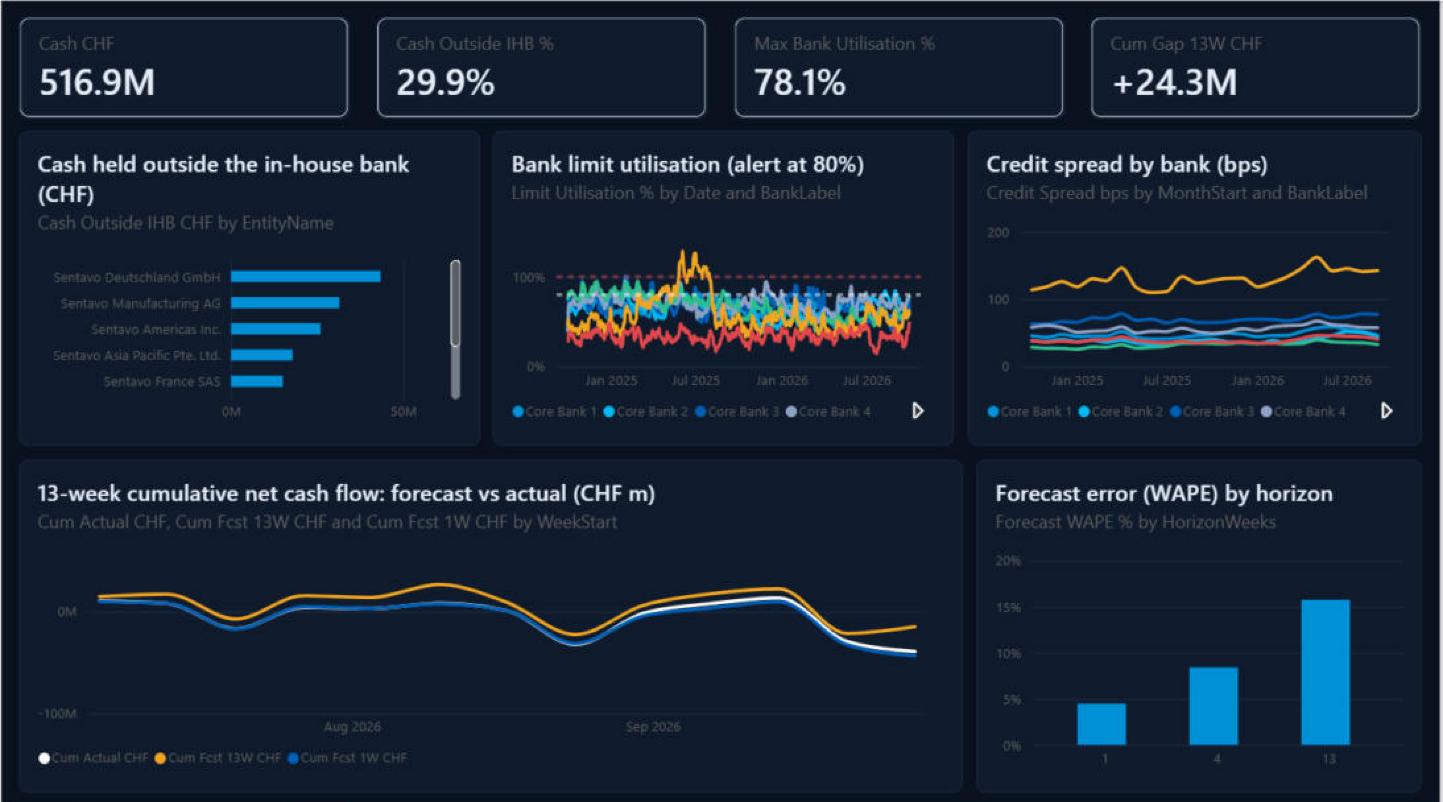

The dashboard page shown, as its layout file describes it:
{"tool":"powerbi","page":{"name":"Treasury Control Tower","canvas":[1280,720],"ordinal":0},"visuals":[{"type":"cardVisual","fields":{"Data":["_Measures.Cash CHF"]},"box":[16,14,294,90],"z":0},{"type":"cardVisual","fields":{"Data":["_Measures.Cash Outside IHB %"]},"box":[334,14,294,90],"z":1},{"type":"cardVisual","fields":{"Data":["_Measures.Max Bank Utilisation %"]},"box":[652,14,294,90],"z":2},{"type":"cardVisual","fields":{"Data":["_Measures.Cum Gap 13W CHF"]},"box":[970,14,294,90],"z":3},{"type":"clusteredBarChart","title":"Cash held outside the in-house bank (CHF)","fields":{"Category":["DimEntity.EntityName"],"Y":["_Measures.Cash Outside IHB CHF"]},"box":[16,116,410,280],"z":4},{"type":"lineChart","title":"Bank limit utilisation (alert at 80%)","fields":{"Category":["Date.Date"],"Series":["DimBank.BankLabel"],"Y":["_Measures.Limit Utilisation %"]},"box":[438,116,410,280],"z":5},{"type":"lineChart","title":"Credit spread by bank (bps)","fields":{"Category":["Date.MonthStart"],"Series":["DimBank.BankLabel"],"Y":["_Measures.Credit Spread bps"]},"box":[860,116,404,280],"z":6},{"type":"lineChart","title":"13-week cumulative net cash flow: forecast vs actual (CHF m)","fields":{"Category":["Date.WeekStart"],"Y":["_Measures.Cum Actual CHF","_Measures.Cum Fcst 13W CHF","_Measures.Cum Fcst 1W CHF"]},"box":[16,408,840,296],"z":7},{"type":"clusteredColumnChart","title":"Forecast error (WAPE) by horizon","fields":{"Category":["FactCashForecast.HorizonWeeks"],"Y":["_Measures.Forecast WAPE %"]},"box":[868,408,396,296],"z":8}]}

Visuals, with their boxes in screenshot pixels (x1, y1, x2, y2), scaled from the page's 1280x720 canvas onto the 1443x802 screenshot:
cardVisual - _Measures.Cash CHF: l=18, t=16, r=349, b=116
cardVisual - _Measures.Cash Outside IHB %: l=377, t=16, r=708, b=116
cardVisual - _Measures.Max Bank Utilisation %: l=735, t=16, r=1066, b=116
cardVisual - _Measures.Cum Gap 13W CHF: l=1094, t=16, r=1425, b=116
"Cash held outside the in-house bank (CHF)" clusteredBarChart: l=18, t=129, r=480, b=441
"Bank limit utilisation (alert at 80%)" lineChart: l=494, t=129, r=956, b=441
"Credit spread by bank (bps)" lineChart: l=970, t=129, r=1425, b=441
"13-week cumulative net cash flow: forecast vs actual (CHF m)" lineChart: l=18, t=454, r=965, b=784
"Forecast error (WAPE) by horizon" clusteredColumnChart: l=979, t=454, r=1425, b=784
